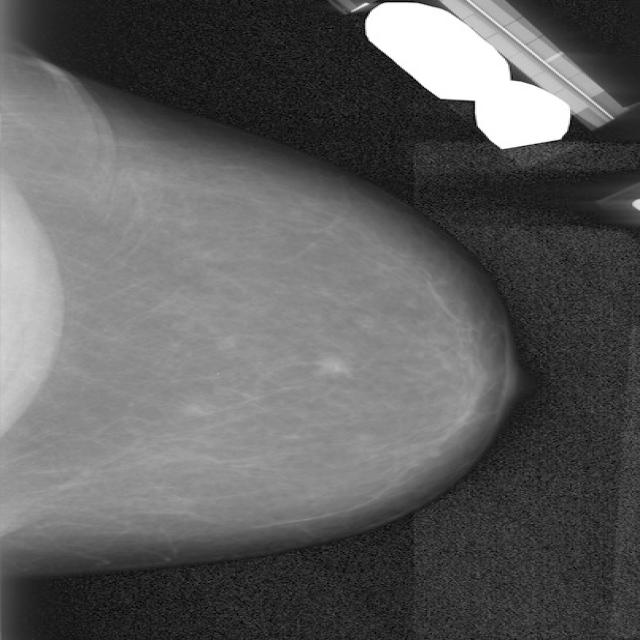tumour: (308, 352, 348, 378)
